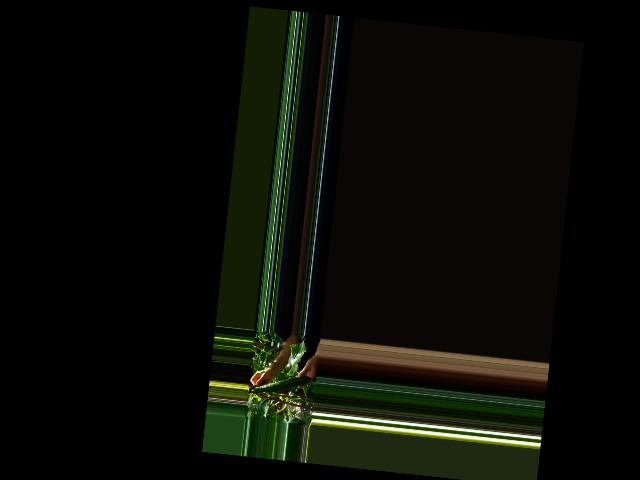cucumber: (254, 370, 311, 397)
